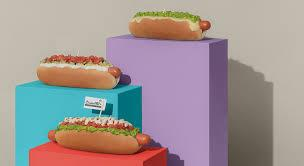Completos: (45, 112, 153, 154), (34, 50, 120, 92), (117, 8, 215, 40)
